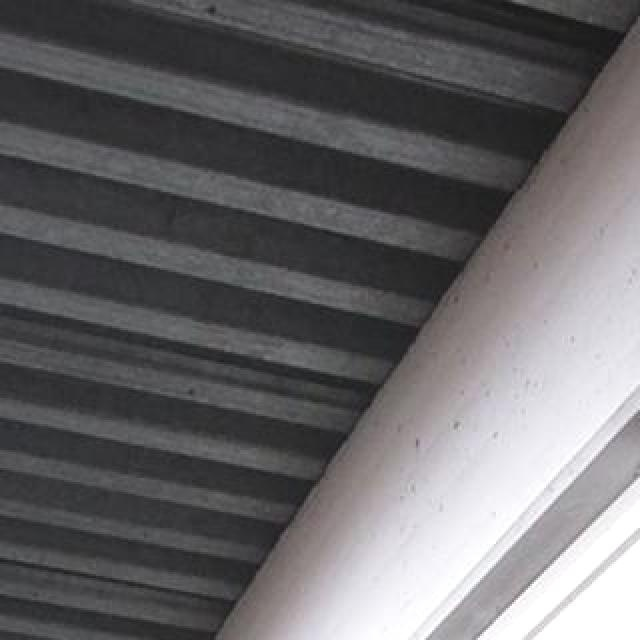fluorescent tube: (132, 156, 640, 640)
